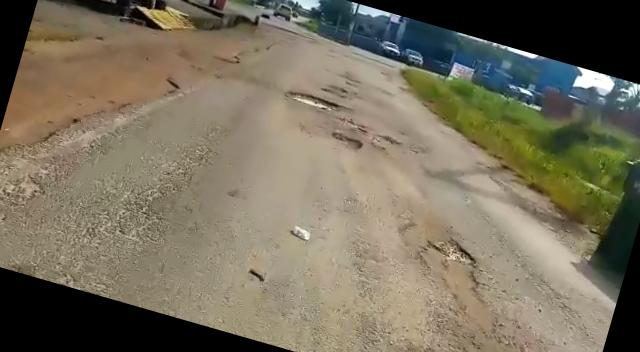pothole: (402, 231, 520, 338), (284, 86, 342, 113), (326, 128, 366, 150)
